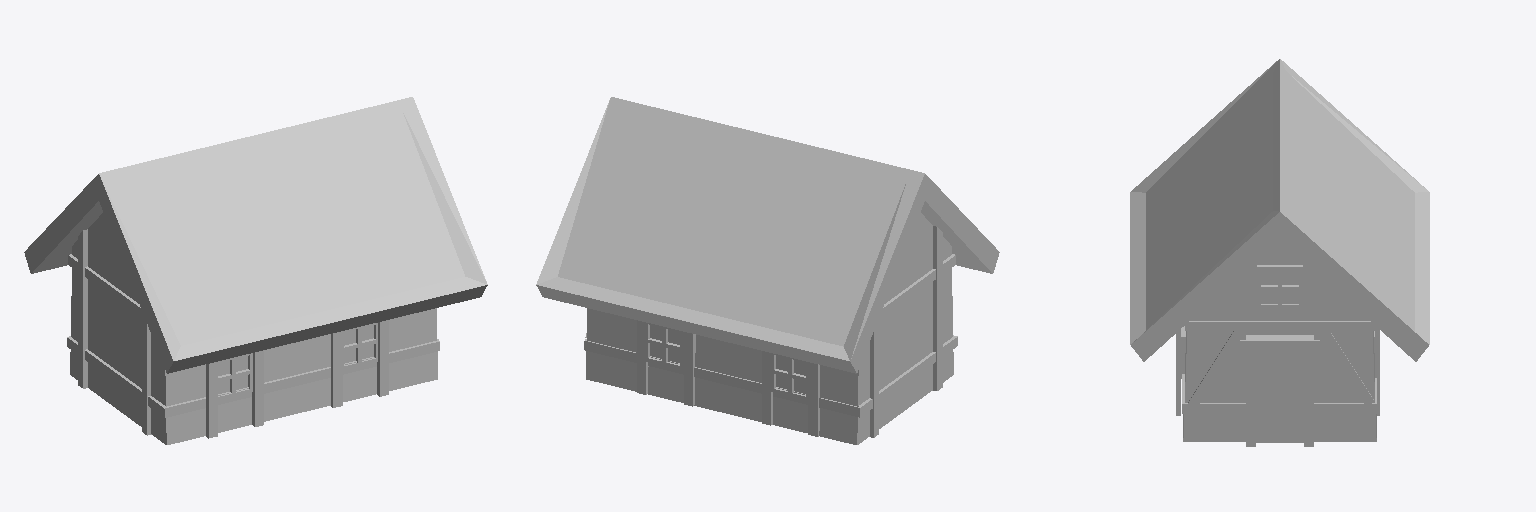
The model's file is Maison.obj.
The picture shows the model from 3 angles: view 1: azimuth 30°, elevation 25°; view 2: azimuth 150°, elevation 25°; view 3: azimuth 270°, elevation 25°; orthographic projection.
Parts seen in each view (by area): view 1: Maison; view 2: Maison; view 3: Maison.
Boxes of the visible parts, x1,y1,x2,y2 form: Maison: [24, 97, 487, 444]; Maison: [536, 97, 999, 444]; Maison: [1130, 59, 1429, 446].
Size of the model in its own units: 9.53 by 7.02 by 7.86.